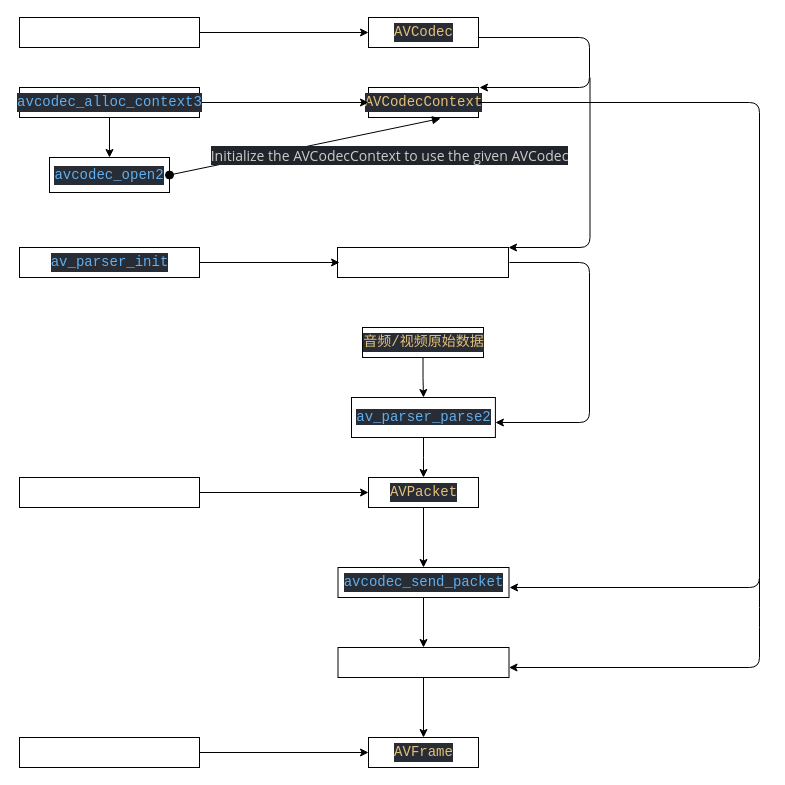
Image size: 785x785. Some labels were removed from this diagram. The centre of each missing label's shape, as x and y in pixels:
"av_frame_alloc" goes at point (109, 752).
"av_packet_alloc" goes at point (109, 492).
"avcodec_find_decoder" goes at point (109, 32).
"avcodec_receive_frame" goes at point (423, 662).
"AVCodecParserContext" goes at point (422, 262).
